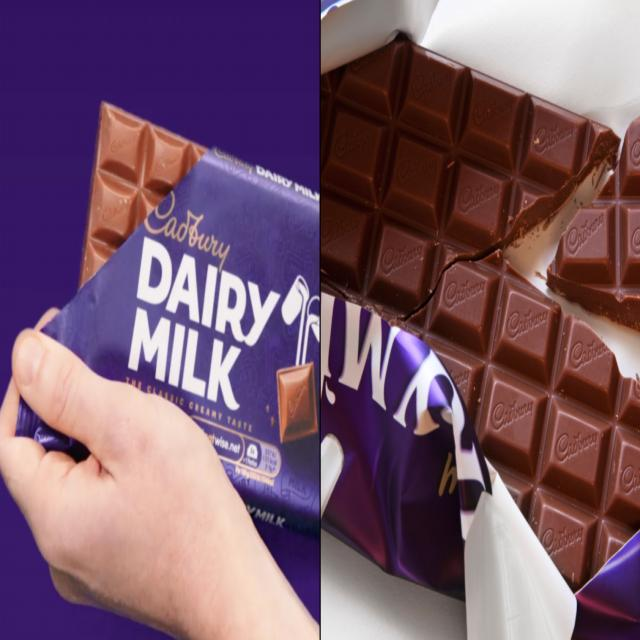cadbury: (17, 106, 319, 532)
